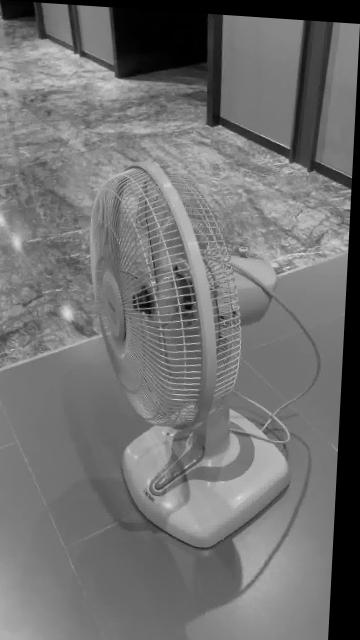Fan: (93, 158, 297, 548)
